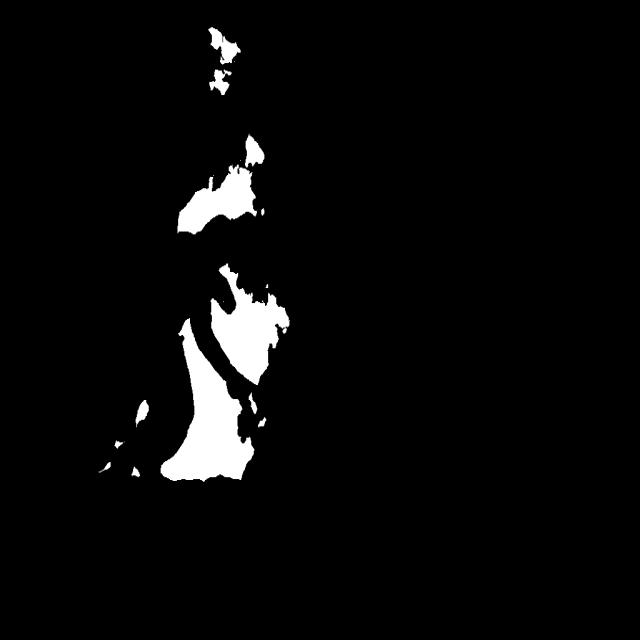fire: (183, 15, 291, 559)
